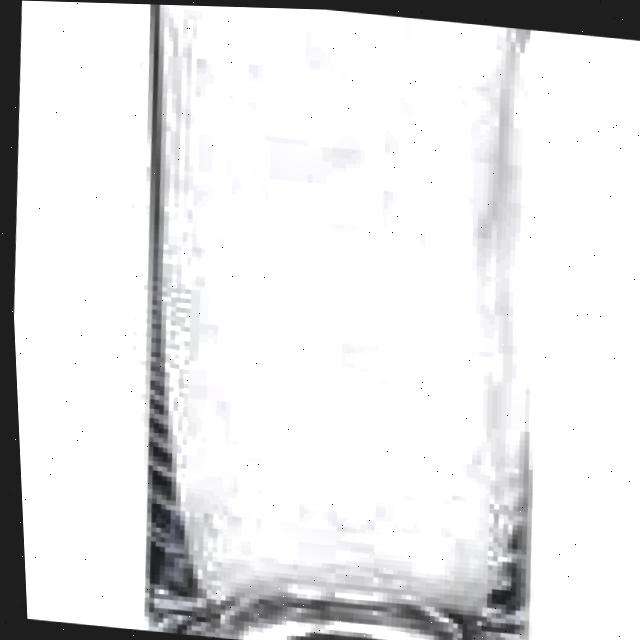glass: (139, 3, 536, 640)
